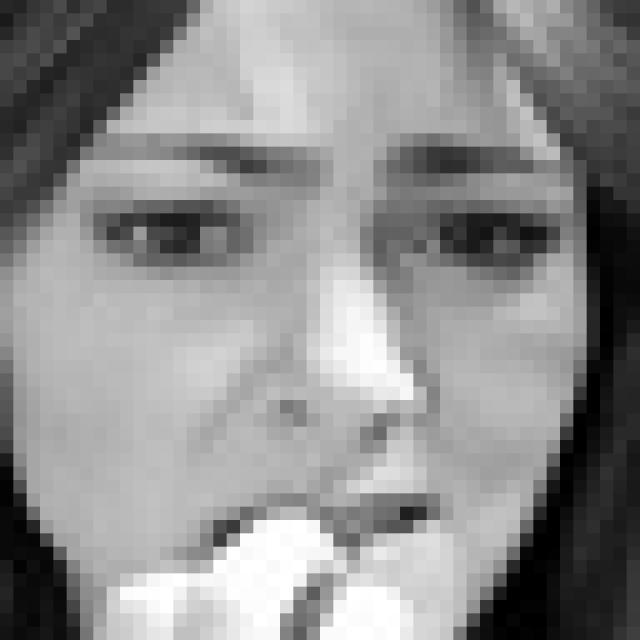fear: (80, 125, 573, 586)
